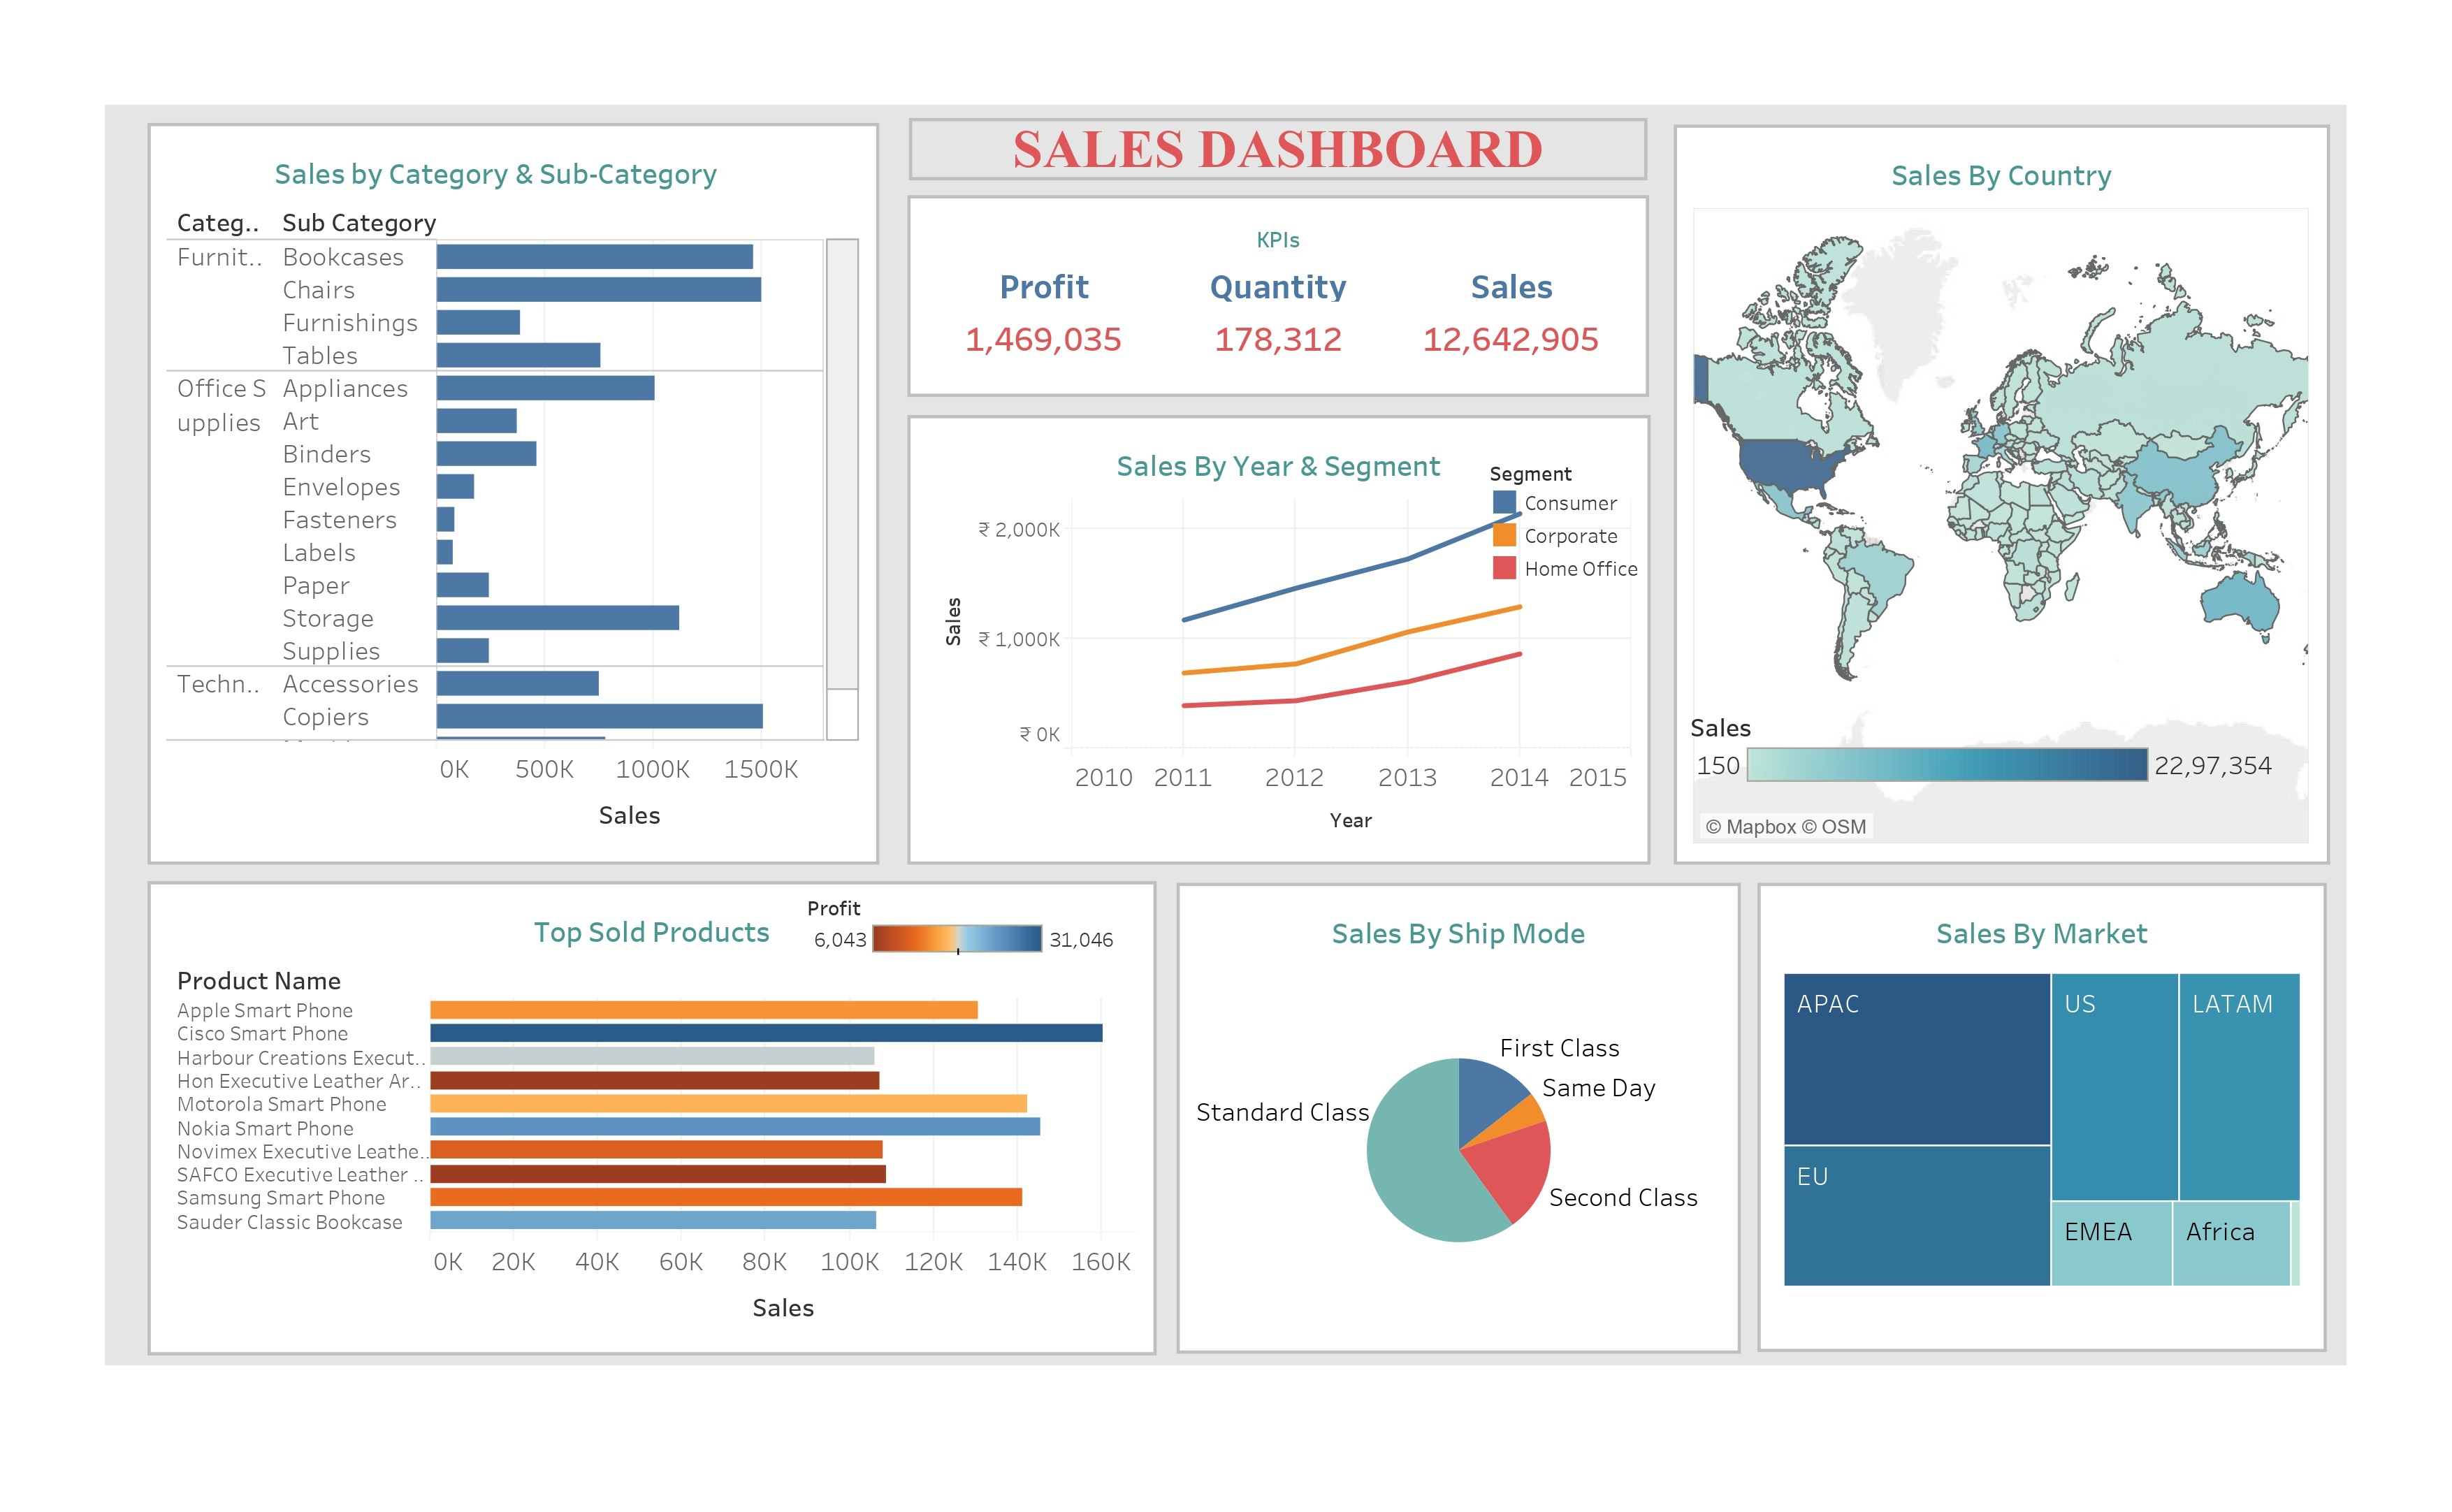

What the dashboard file says about the page in this screenshot:
{"tool":"tableau","page":{"name":"Sales Dashboard","canvas":[1366,768],"ordinal":0},"visuals":[{"type":"worksheet","title":"Sales By Country","mark":"Automatic","box":[946,2,420,471]},{"type":"text","box":[490,8,450,38]},{"type":"worksheet","title":"Sales by Category & Sub-Category","mark":"Automatic","rows":["category","sub_category"],"cols":["sales"],"box":[26,11,446,452]},{"type":"worksheet","title":"KPIs","mark":"Automatic","box":[479,50,472,138]},{"type":"worksheet","title":"Sales By Year & Segment","mark":"Automatic","rows":["sales"],"cols":["year"],"box":[479,179,473,294]},{"type":"legend","title":"Sales By Year & Segment","param":"[federated.1pehbv30mskfoe15j92so17jhfho].[none:segment:nk]","box":[843,214,99,110]},{"type":"legend","title":"Sales By Country","param":"[federated.1pehbv30mskfoe15j92so17jhfho].[sum:sales:qk]","box":[966,365,360,64]},{"type":"worksheet","title":"Sales By Ship Mode","mark":"Pie","box":[643,464,364,307]},{"type":"worksheet","title":"Sales By Market","mark":"Automatic","box":[997,464,367,306]},{"type":"legend","title":"Top Sold Products","param":"[federated.1pehbv30mskfoe15j92so17jhfho].[sum:profit:qk]","box":[428,477,192,48]}]}

Visuals, with their boxes on the page's 1366x768 design canvas (x1, y1, x2, y2). These are canvas units, not pixel positions in the 2452x1512 screenshot, which may show the page scaled, cropped or inside an application window:
"Sales By Country" worksheet: [946,2,1366,473]
text: [490,8,940,46]
"Sales by Category & Sub-Category" worksheet: [26,11,472,463]
"KPIs" worksheet: [479,50,951,188]
"Sales By Year & Segment" worksheet: [479,179,952,473]
"Sales By Year & Segment" legend: [843,214,942,324]
"Sales By Country" legend: [966,365,1326,429]
"Sales By Ship Mode" worksheet (Pie marks): [643,464,1007,771]
"Sales By Market" worksheet: [997,464,1364,770]
"Top Sold Products" legend: [428,477,620,525]
